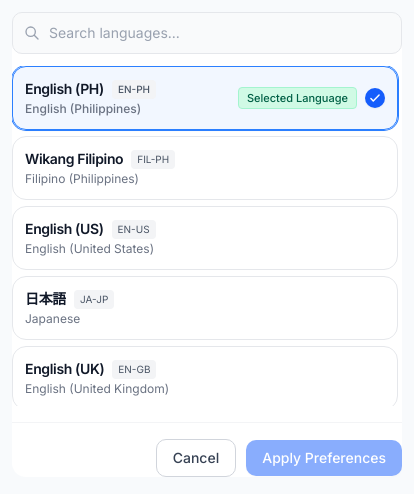
Test: RENTipid GLCC v1.0.1 — Work Package P7: Language Selector UX Suite › 3. Search UX & Result Governance › supports case-insensitive search by native name
Type "wikang" into the search field at (207, 33), box [12, 12, 402, 54]
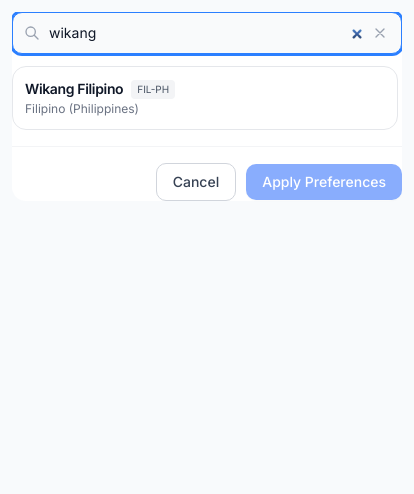
Expected: the text "Wikang Filipino" is shown, [25, 79, 123, 99]
Expected: the option "Japanese" is gone
